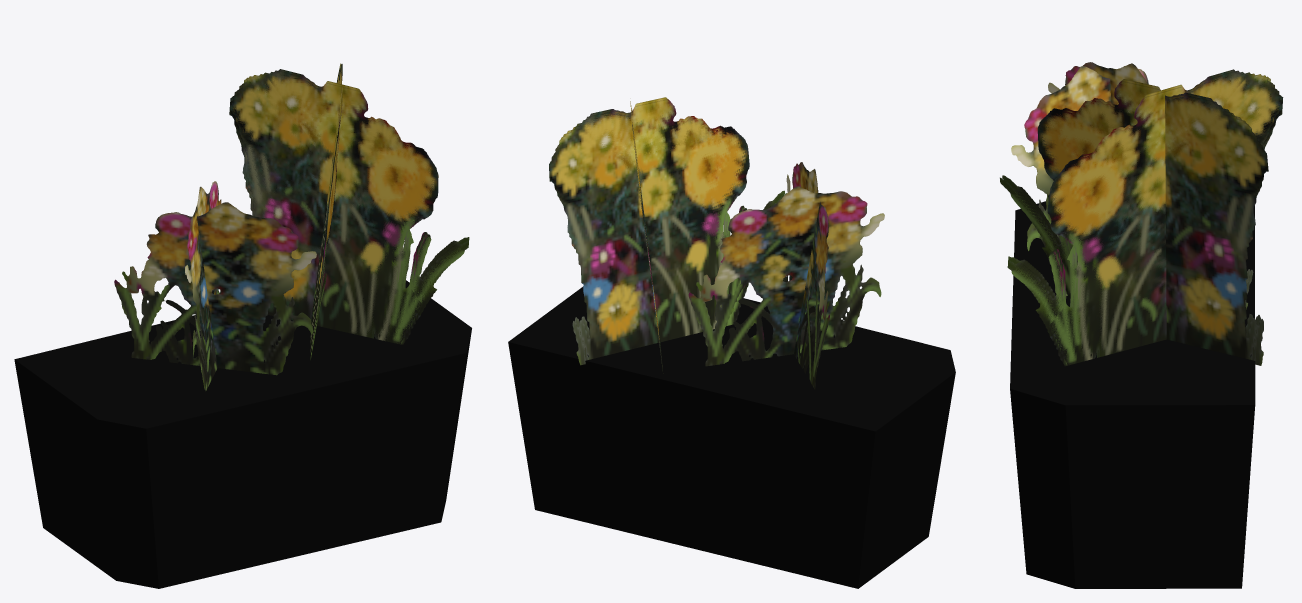
Rendered from flowerpot_01.fbx.
3 renders of one model, left to right at view 1: azimuth 30°, elevation 25°; view 2: azimuth 150°, elevation 25°; view 3: azimuth 270°, elevation 25°, orthographic. The views are drawn at different scales.
Parts seen in each view (by area): view 1: flowerpot_01; view 2: flowerpot_01; view 3: flowerpot_01.
Boxes of the visible parts, x1,y1,x2,y2 form: flowerpot_01: (14, 63, 471, 588); flowerpot_01: (508, 97, 955, 588); flowerpot_01: (1000, 62, 1283, 588).
Bounding box in the file's own units: 0.714 × 0.7858 × 0.4345.
